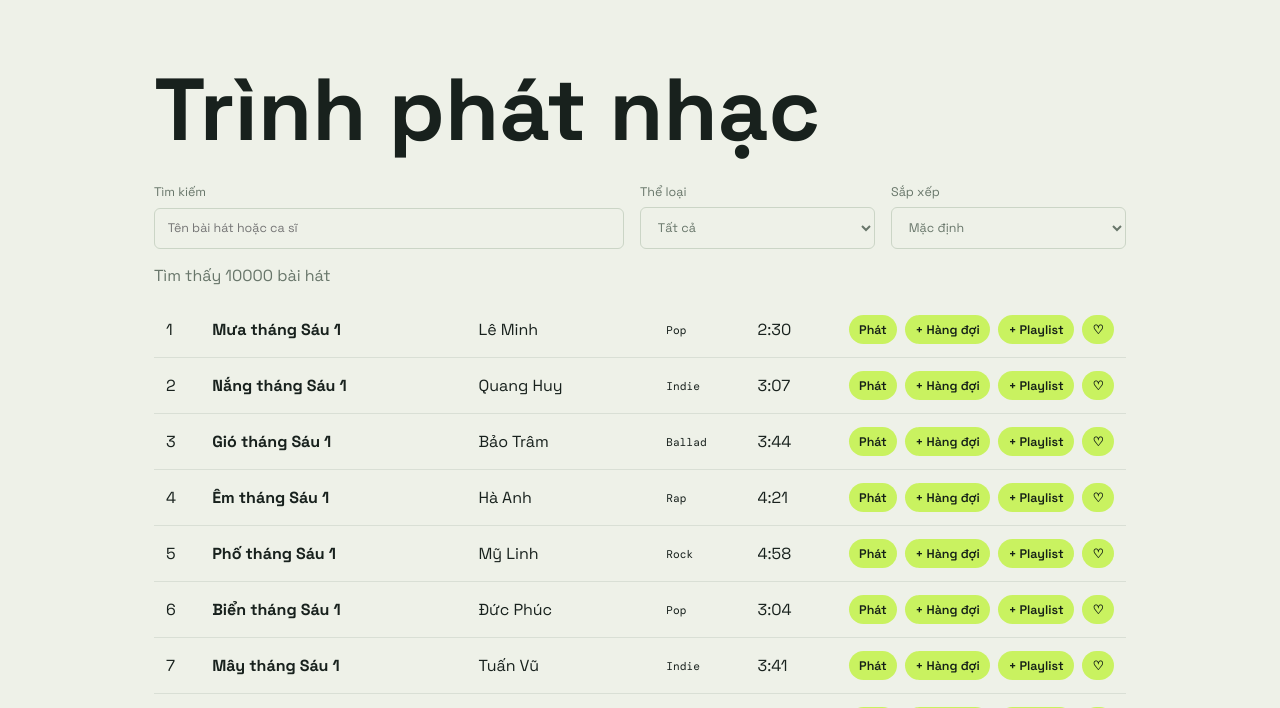
Test: LibraryPage › hiển thị thư viện và lọc theo từ khóa sau debounce
This screenshot has width=1280, height=708.
Expected: the text "Tìm thấy 10000 bài hát" is shown, [154,265,330,286]
Type "xyz" into the field labelled "Tìm kiếm" at [389, 228], box [154,208,624,249]
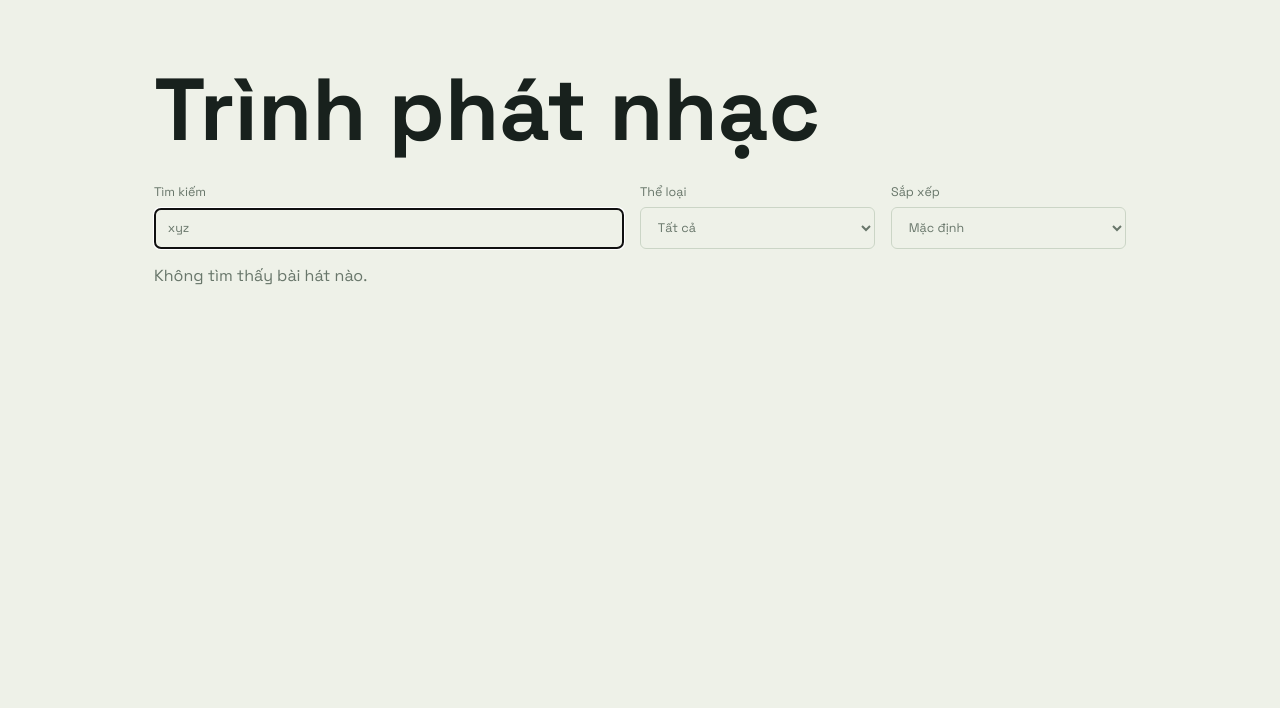
Expected: the text "Không tìm thấy bài hát nào." is shown, [154,265,367,286]
